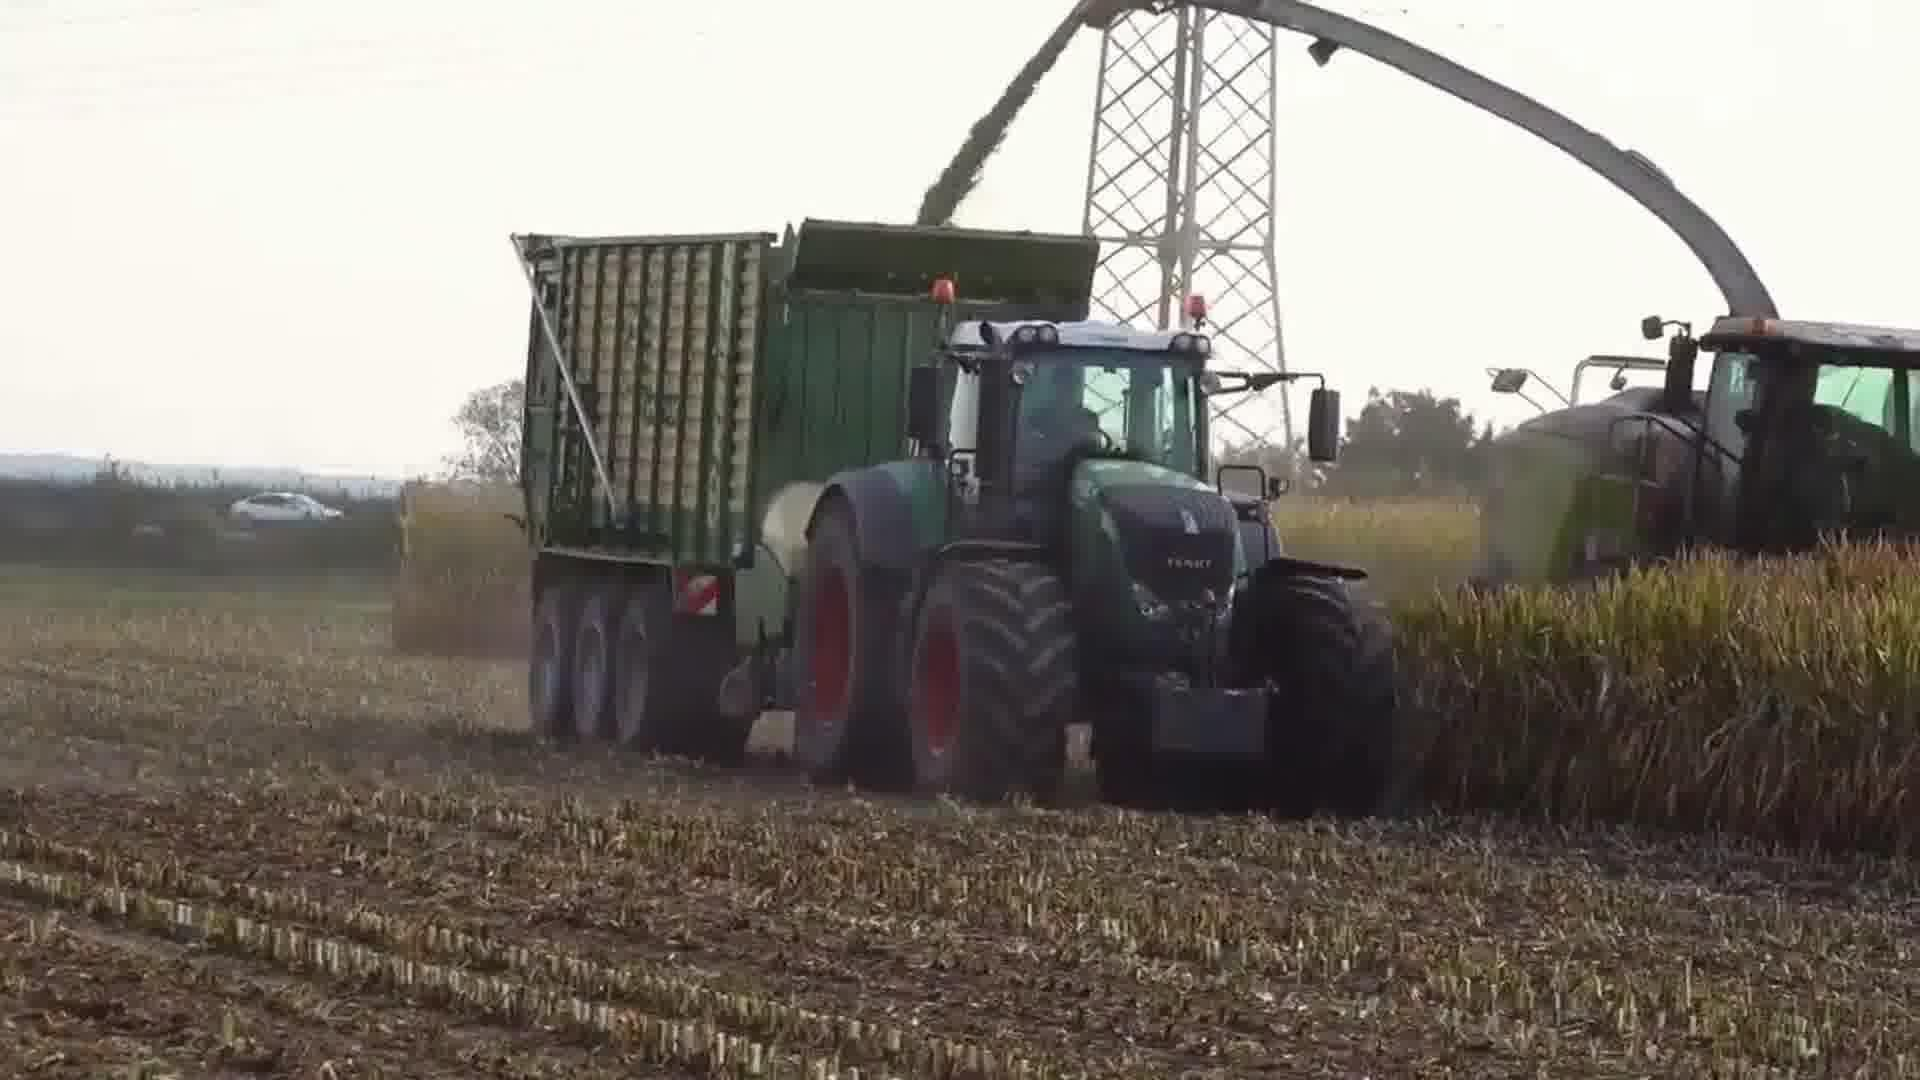combine harvester: (1067, 0, 1920, 684)
tractor: (766, 287, 1411, 828)
trailer: (495, 190, 1109, 803)
